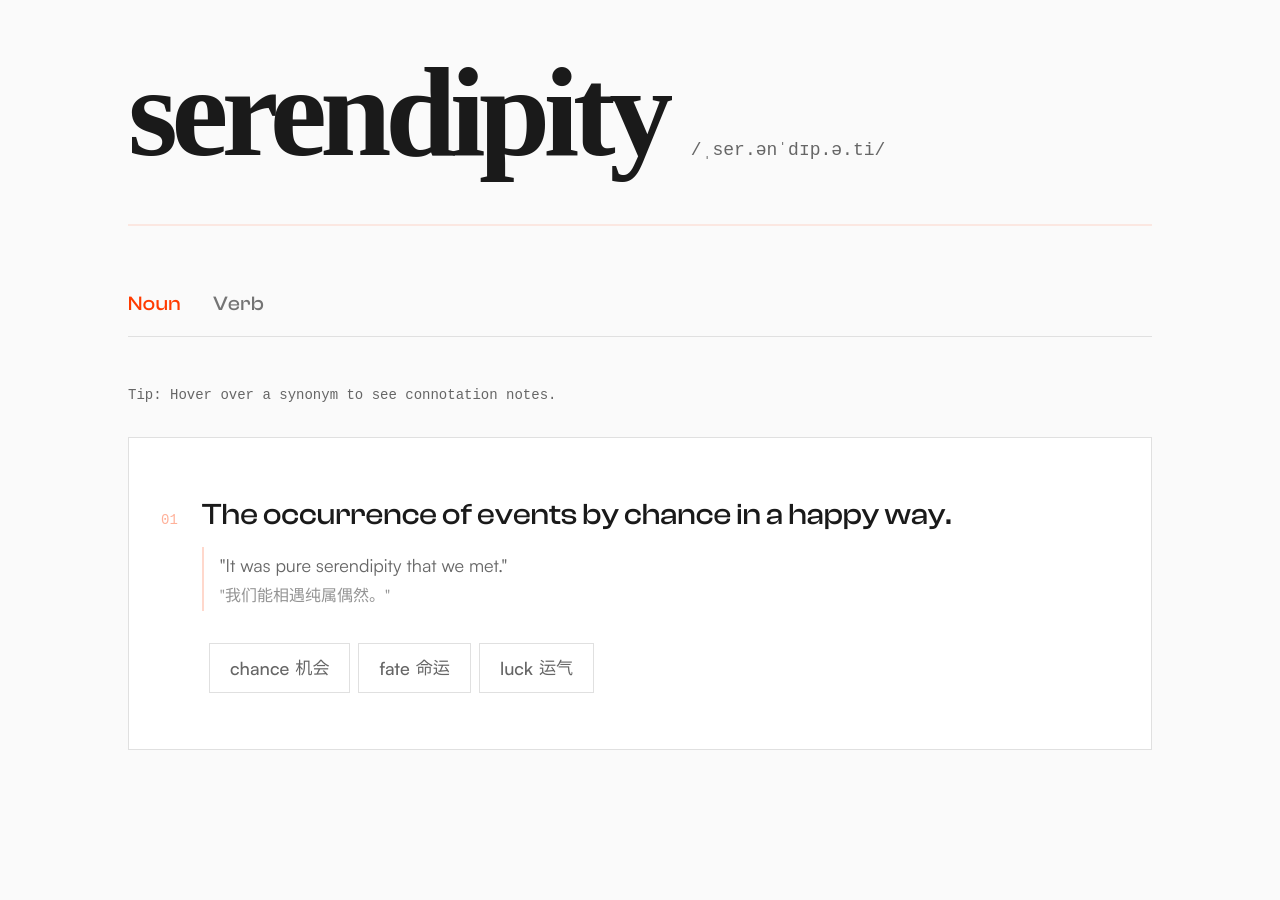
Test case: ResultsView › fetches connotation on hover intent and renders it
Hover over the button "chance 机会" at (280, 668), box [209,643,350,693]
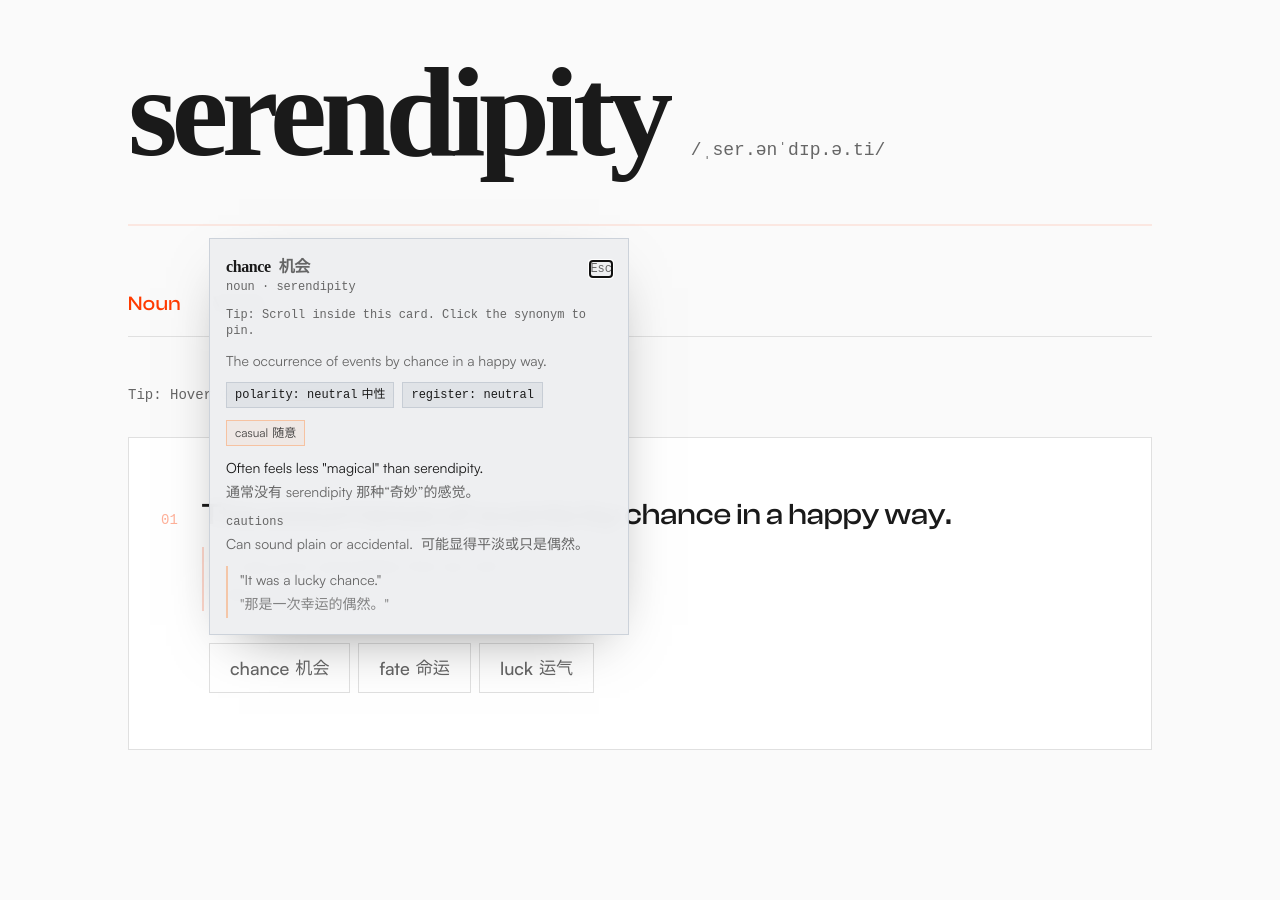
Result: the text "polarity:" is shown at [235,388,307,402]
Result: the text "Often feels less \"magical\" than serendipity." is shown at [226,459,483,476]
